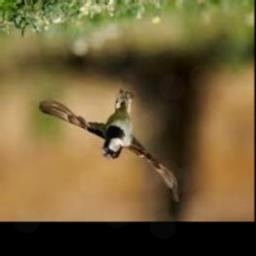Sparrow: (38, 90, 179, 201)
